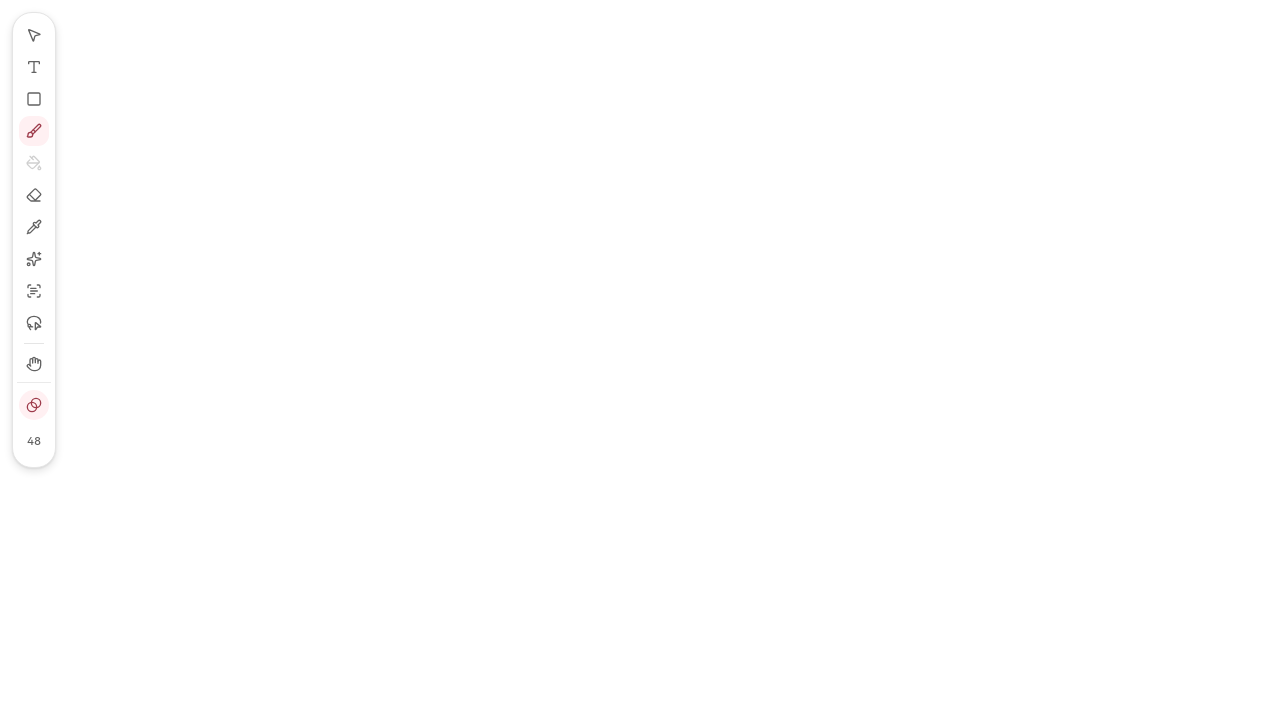
it: greenfield editor › turns the ramp back off without disturbing the flat brush colour
Click the button named "Brush gradient".
click(34, 405)  # box [18, 389, 50, 421]
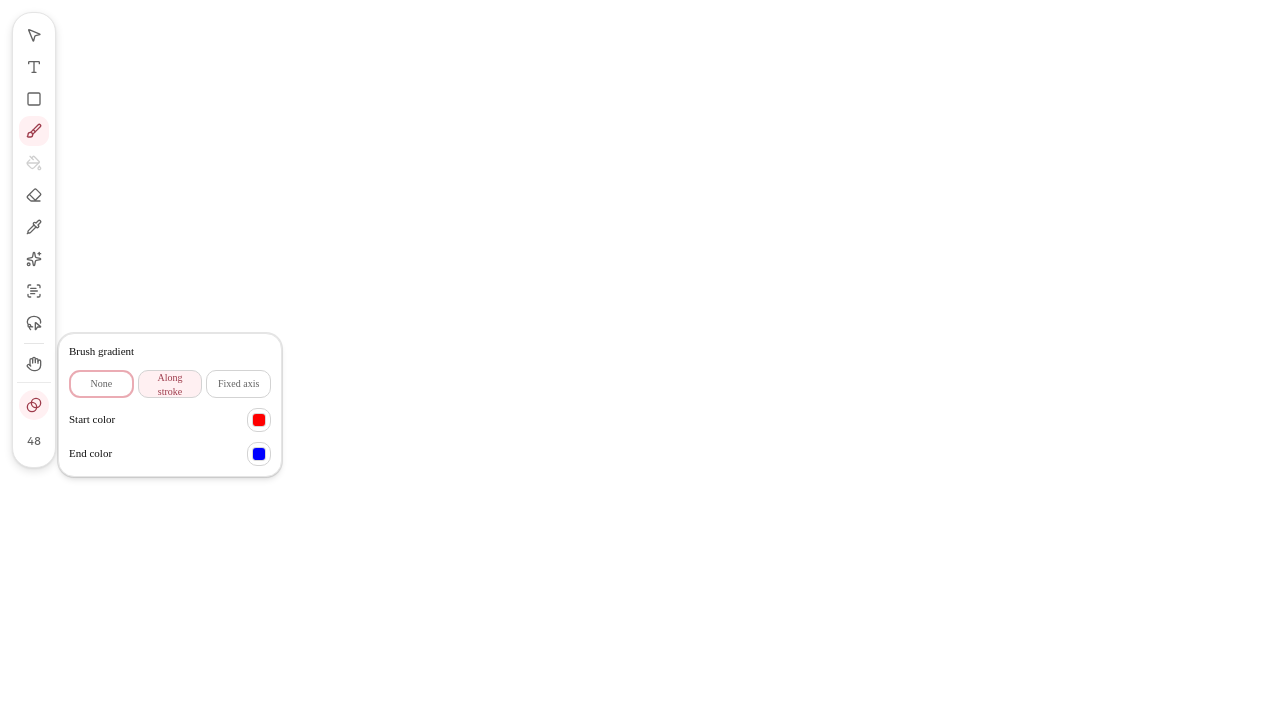
Click the radio button labelled "None".
click(101, 384)  # box [69, 370, 134, 398]
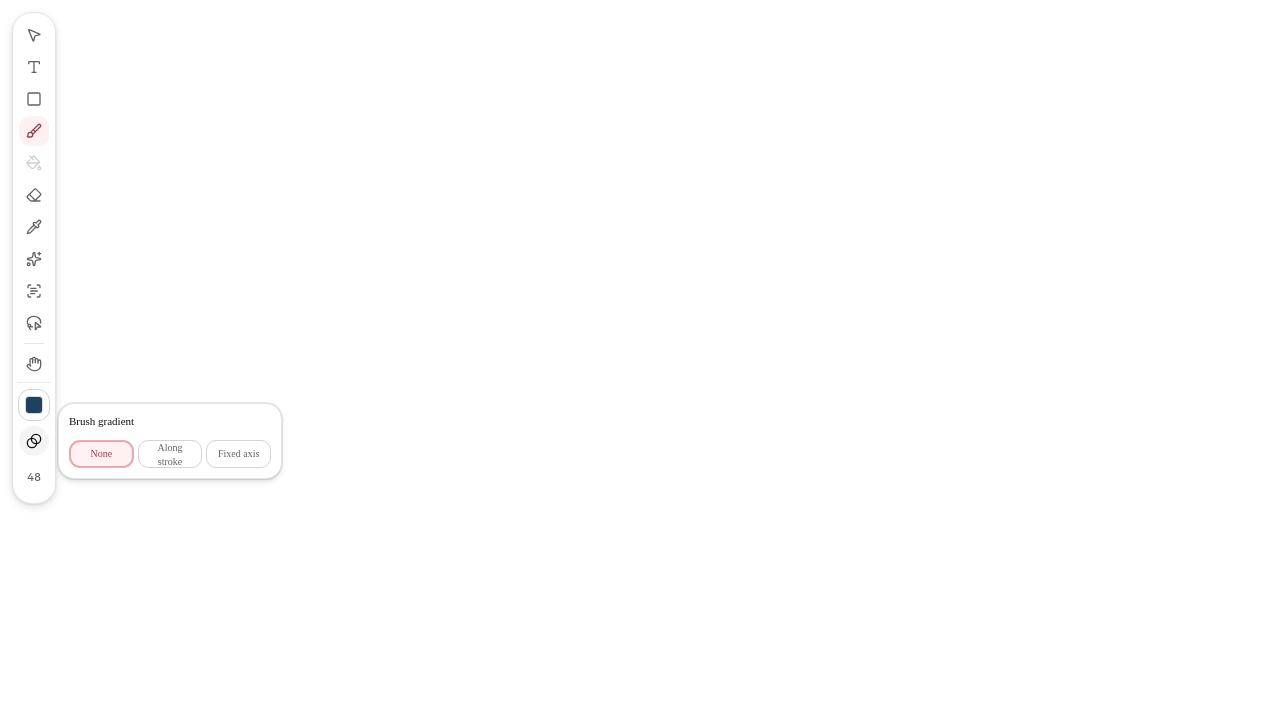
Result: the button named "Brush color" is shown at [18, 389, 50, 421]
